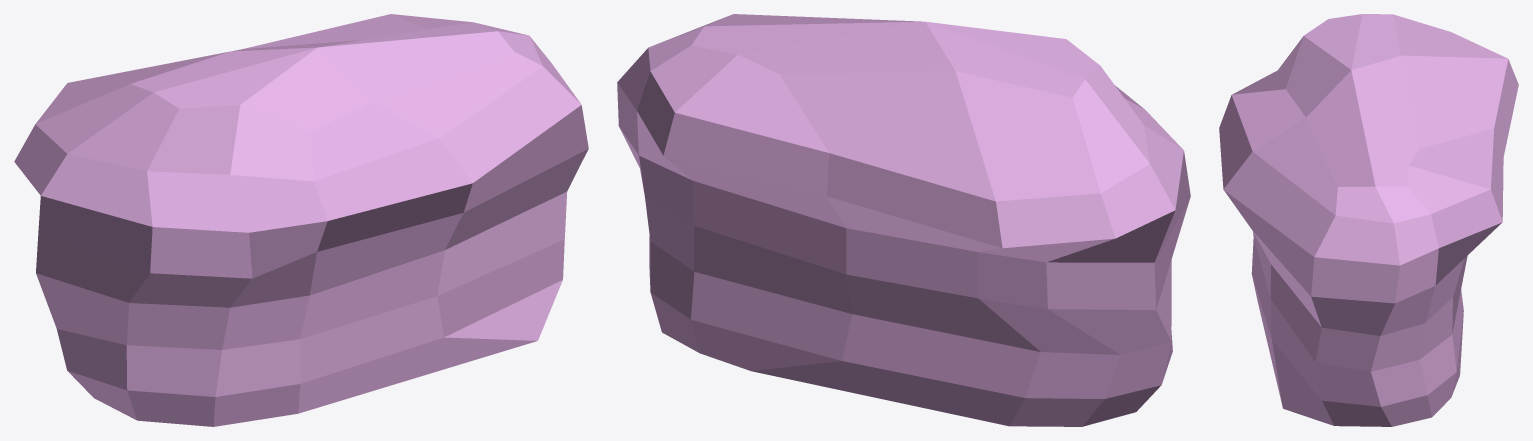
Rendered from boulder_2_v1.fbx.
3 renders of one model, left to right at view 1: azimuth 30°, elevation 25°; view 2: azimuth 150°, elevation 25°; view 3: azimuth 270°, elevation 25°, orthographic. The views are drawn at different scales.
Parts seen in each view (by area): view 1: boulder_2; view 2: boulder_2; view 3: boulder_2.
Part boxes in pixels (x1,y1,x2,y2): boulder_2: (14, 14, 588, 426); boulder_2: (617, 14, 1190, 426); boulder_2: (1219, 14, 1518, 426).
Bounding box in the file's own units: 12.46 × 7.3 × 7.27.
